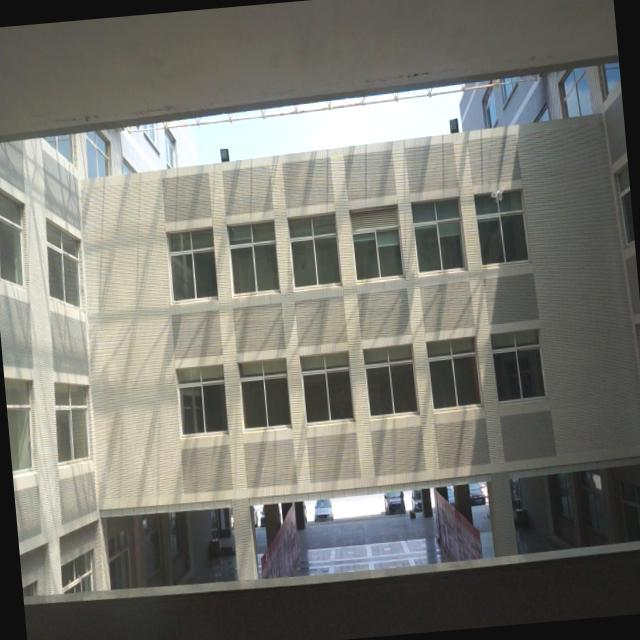drone: (486, 182, 507, 204)
